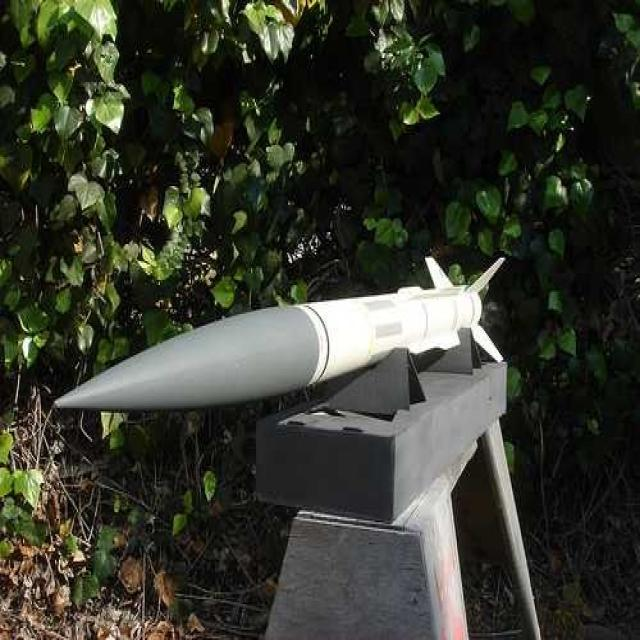missile: (51, 244, 510, 413)
